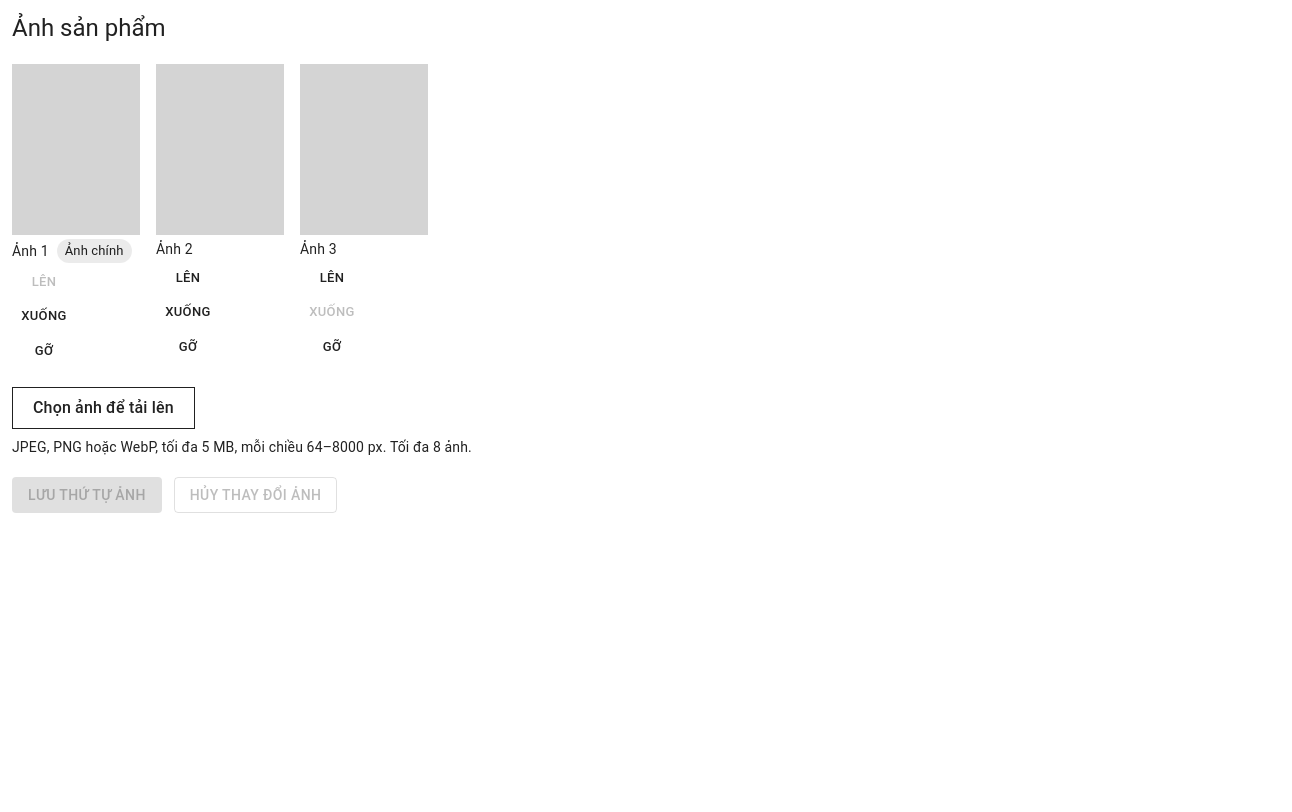
Test: upload and attach product images › reorders images, marks the first as main, and saves the new order
Expected: the text "Ảnh chính" is shown, [65,243,124,258]
Expected: the button with aria-label "Đưa ảnh 1 lên trước" is disabled, [12,267,76,298]
Click the button with aria-label "Đưa ảnh 3 lên trước": {"x": 332, "y": 278} [300,263,364,294]
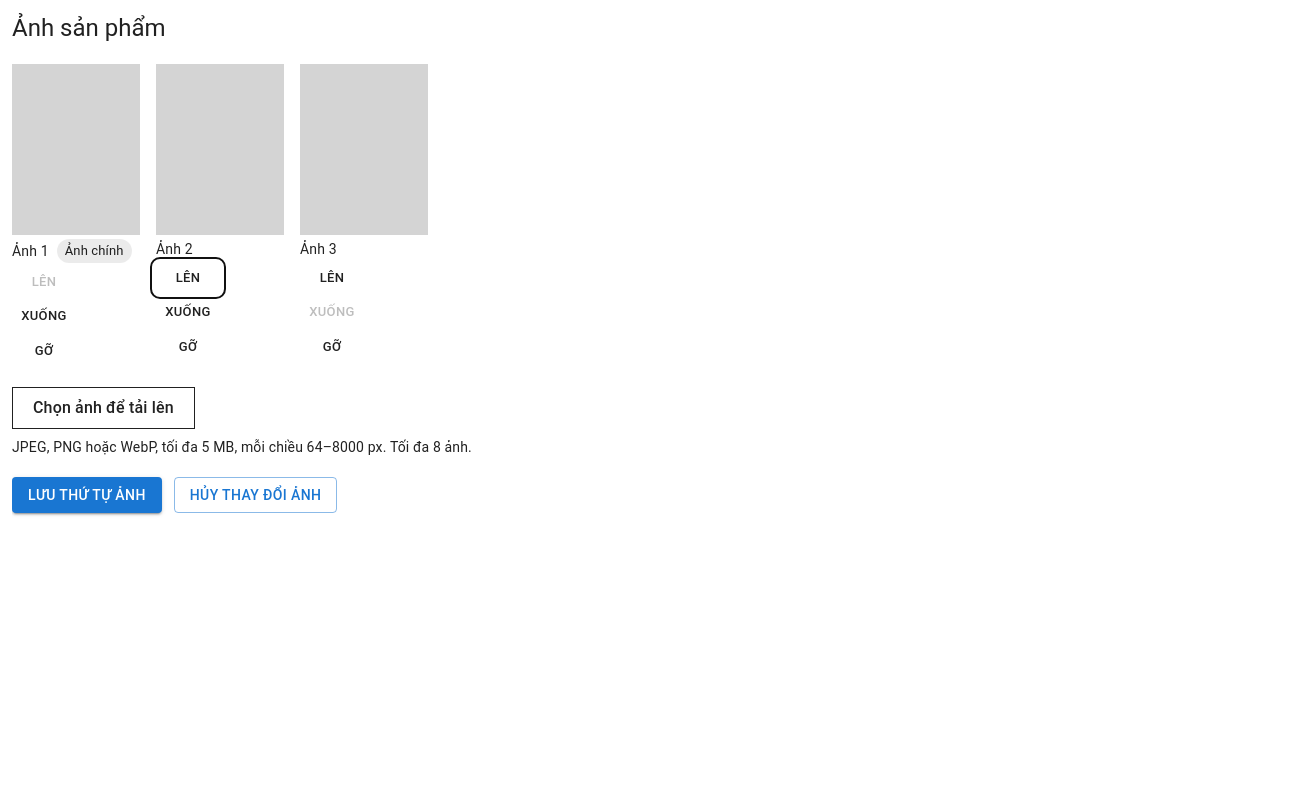
Click the button with aria-label "Đưa ảnh 1 ra sau": {"x": 44, "y": 317} [12,301,76,332]
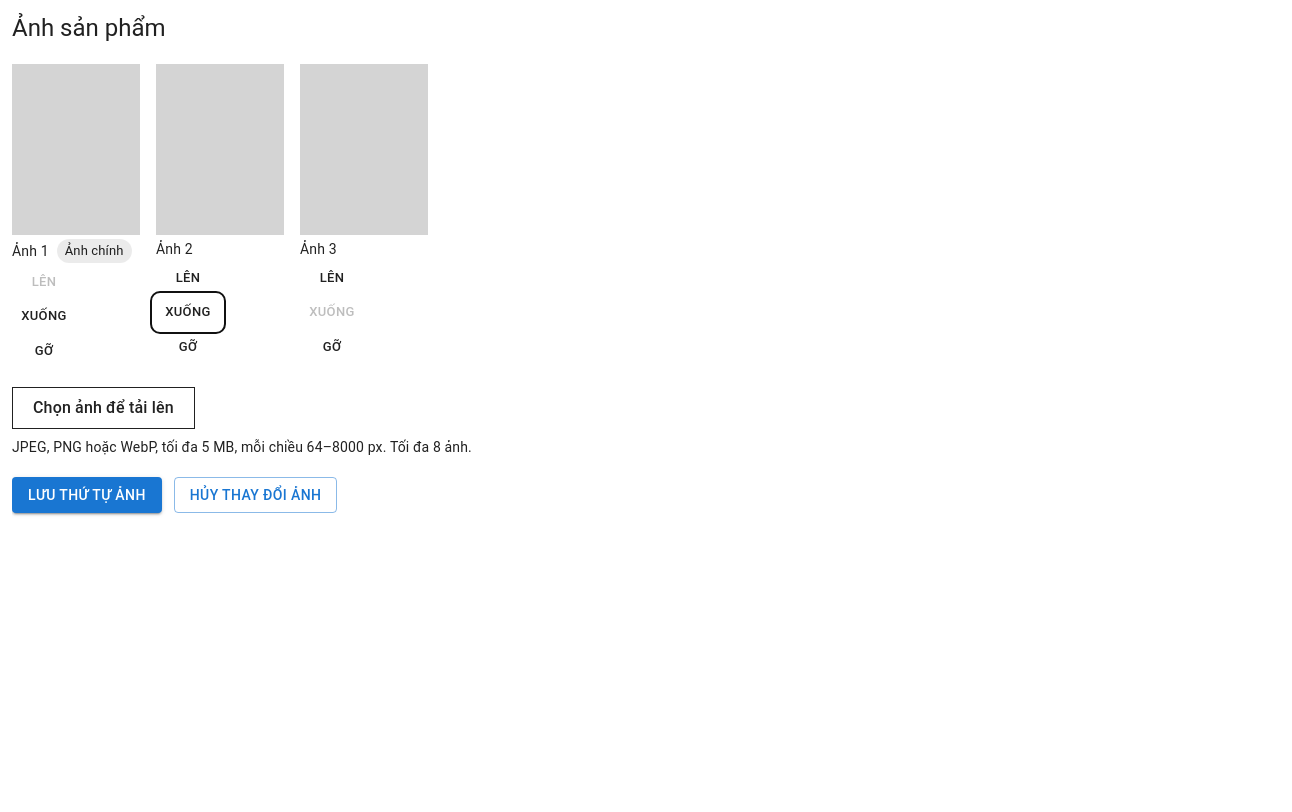
Click the button "Lưu thứ tự ảnh": {"x": 87, "y": 495} [12,477,162,513]
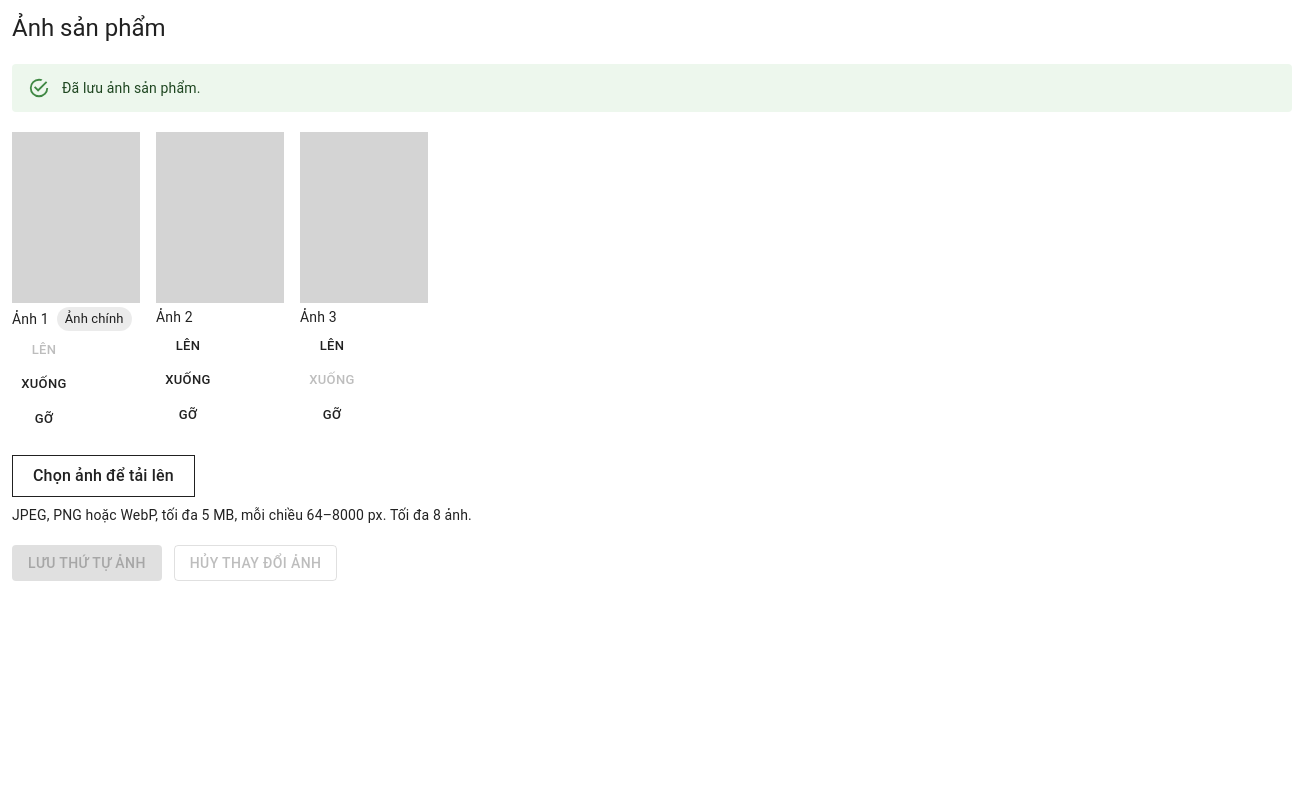
Expected: the message reads "Đã lưu ảnh sản phẩm.", [62,80,200,96]
Expected: the button "Lưu thứ tự ảnh" is disabled, [12,545,162,582]
